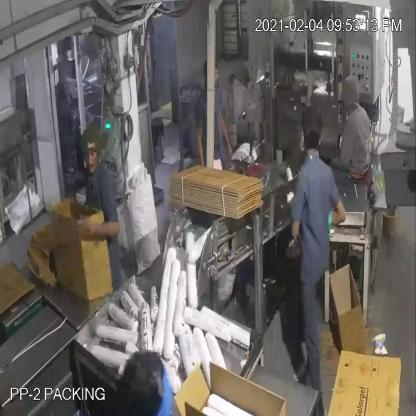no_glove: (72, 209, 128, 253), (216, 106, 238, 157), (326, 193, 350, 232), (194, 118, 204, 169)
